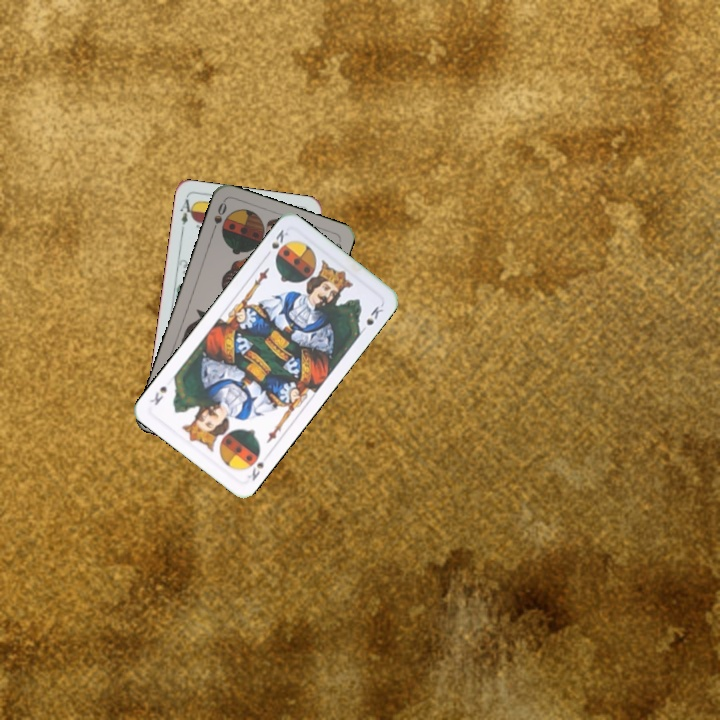EA: (176, 195, 196, 235)
SK: (267, 225, 292, 251), (243, 458, 267, 483)
SO: (207, 198, 229, 237)
